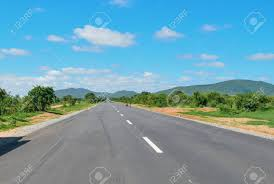strada: (0, 111, 273, 183)
